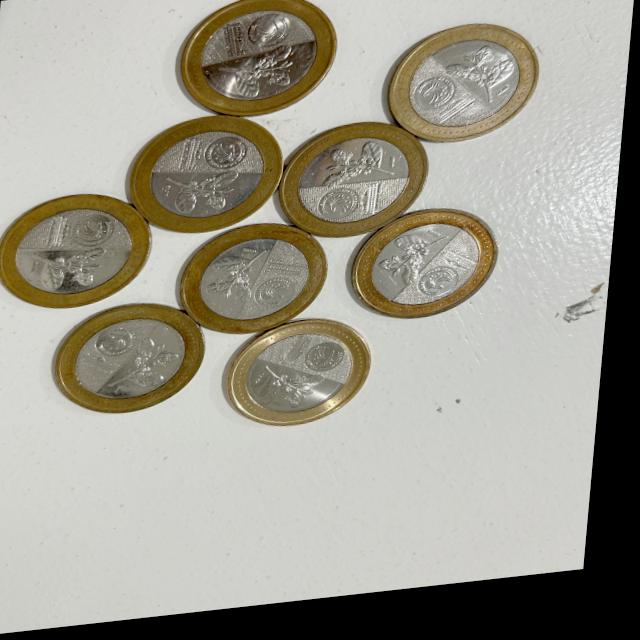20_New_Back: (375, 232, 455, 301), (318, 149, 400, 200)
